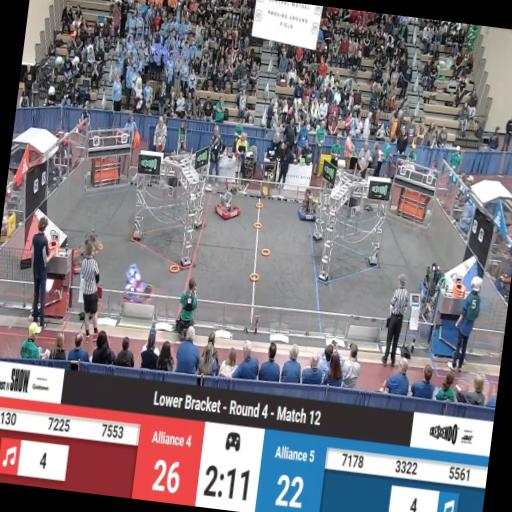robot: (72, 230, 108, 280), (124, 263, 156, 304), (418, 262, 448, 304), (214, 194, 243, 223), (298, 192, 319, 222)
